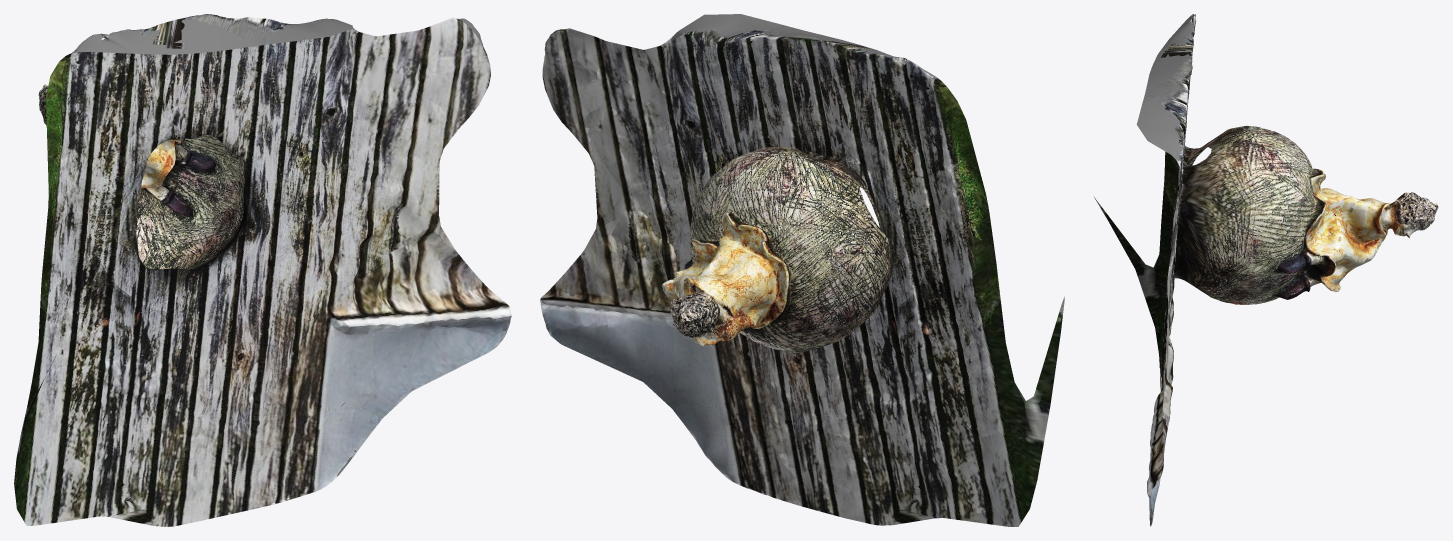
Rendered from ggoldenGirlOnBall.obj.
3 renders of one model, left to right at view 1: azimuth 30°, elevation 25°; view 2: azimuth 150°, elevation 25°; view 3: azimuth 270°, elevation 25°, orthographic. The views are drawn at different scales.
Parts seen in each view (by area): view 1: goldenGirlOnBall; view 2: goldenGirlOnBall; view 3: goldenGirlOnBall.
Part boxes in pixels (x1,y1,x2,y2): goldenGirlOnBall: (14, 14, 511, 526); goldenGirlOnBall: (540, 14, 1064, 526); goldenGirlOnBall: (1094, 14, 1438, 526).
Bounding box in the file's own units: 23.65 × 22.36 × 16.24.
